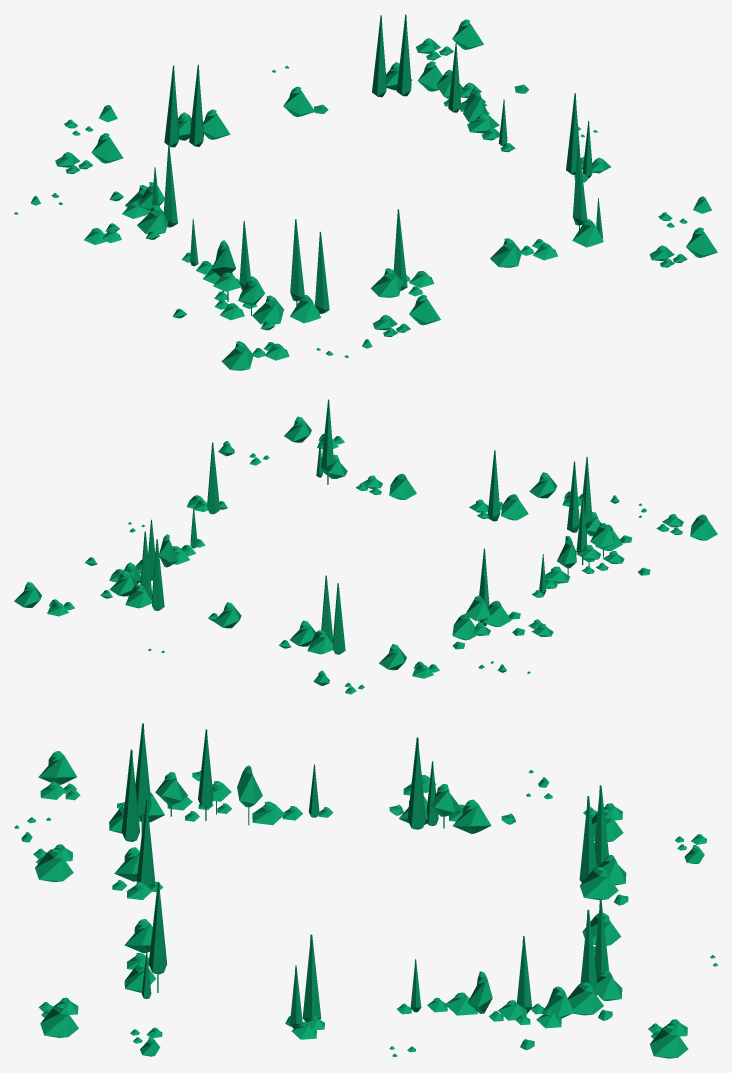
Rendered from Trees.fbx.
3 views of the same model, one above another, from view 1: azimuth 30°, elevation 25°; view 2: azimuth 150°, elevation 25°; view 3: azimuth 270°, elevation 25° (orthographic). The views are drawn at different scales.
Parts seen in each view (by area): view 1: Temple_FIX_0000000000000000000000000000000000000:Temple_FIX_ (×20); view 2: Temple_FIX_0000000000000000000000000000000000000:Temple_FIX_ (×9); view 3: Temple_FIX_0000000000000000000000000000000000000:Temple_FIX_ (×28).
Boxes of the visible parts, x1,y1,x2,y2 form: Temple_FIX_0000000000000000000000000000000000000:Temple_FIX_ (×20): (91,14,717,370); Temple_FIX_0000000000000000000000000000000000000:Temple_FIX_ (×9): (151,399,717,654); Temple_FIX_0000000000000000000000000000000000000:Temple_FIX_ (×28): (35,723,688,1058).
Bounding box in the file's own units: 44 × 8.19 × 45.33.
